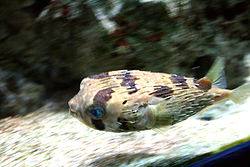Diodon_holocanthus: (65, 63, 248, 135)
